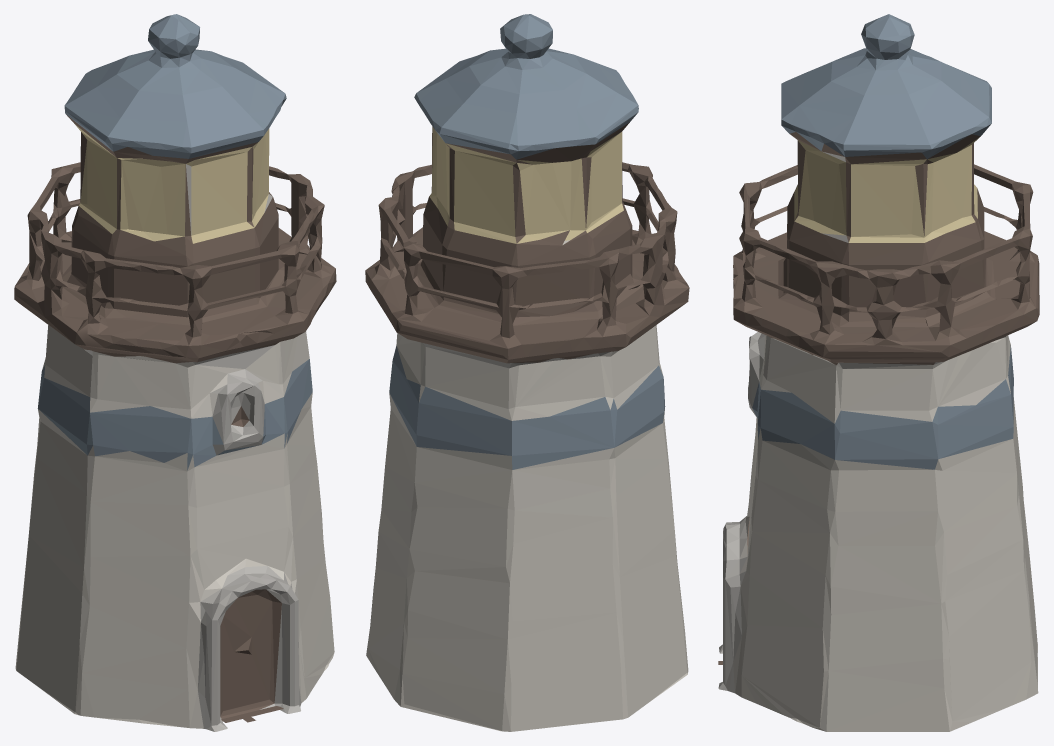
3 views of the same model, side by side, from view 1: azimuth 30°, elevation 25°; view 2: azimuth 150°, elevation 25°; view 3: azimuth 270°, elevation 25° (orthographic).
Parts seen in each view (by area): view 1: geometry_0; view 2: geometry_0; view 3: geometry_0.
Boxes of the visible parts, x1,y1,x2,y2 form: geometry_0: [14, 14, 336, 731]; geometry_0: [365, 14, 689, 731]; geometry_0: [718, 14, 1039, 731].
Size of the model in its own units: 0.4081 by 0.9601 by 0.4279.
